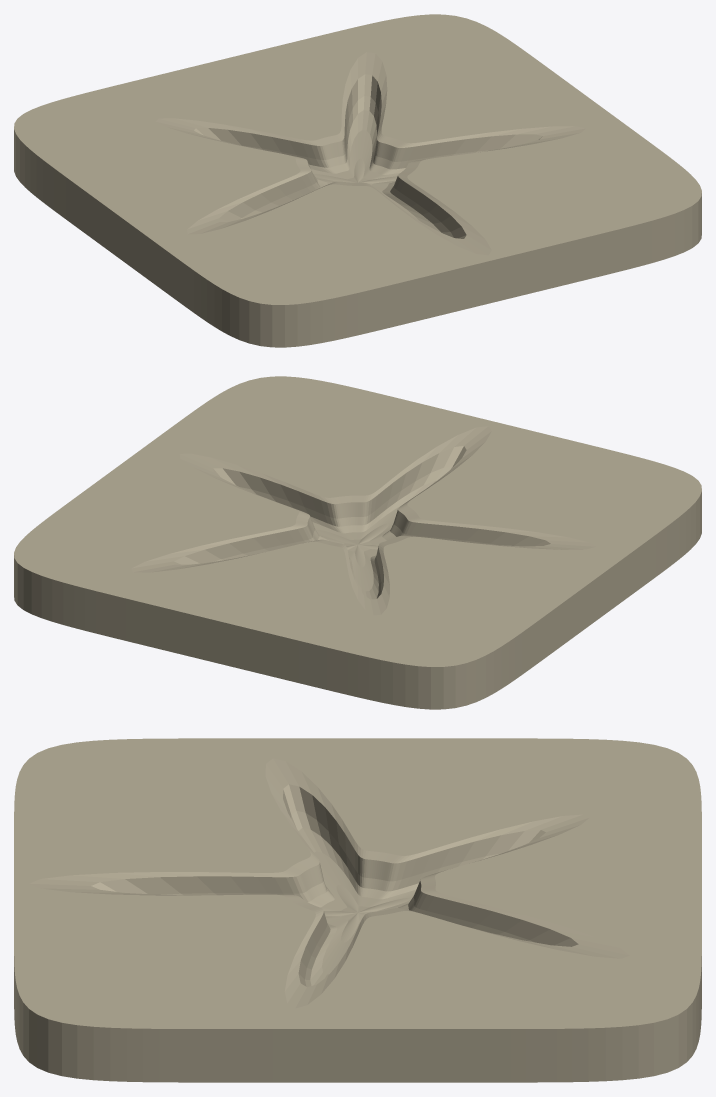
File: asteriacites-resting-impression.glb
3 views of the same model, one above another, from view 1: azimuth 30°, elevation 25°; view 2: azimuth 150°, elevation 25°; view 3: azimuth 270°, elevation 25° (orthographic). The views are drawn at different scales.
Visible parts, largest first — view 1: single-continuous-sediment-slab-negative-central-body-and-fi; view 2: single-continuous-sediment-slab-negative-central-body-and-fi; view 3: single-continuous-sediment-slab-negative-central-body-and-fi.
Boxes of the visible parts, x1,y1,x2,y2 form: single-continuous-sediment-slab-negative-central-body-and-fi: [14, 14, 701, 347]; single-continuous-sediment-slab-negative-central-body-and-fi: [14, 376, 701, 709]; single-continuous-sediment-slab-negative-central-body-and-fi: [14, 738, 701, 1082].
Size of the model in its own units: 0.28 by 0.024 by 0.28.
